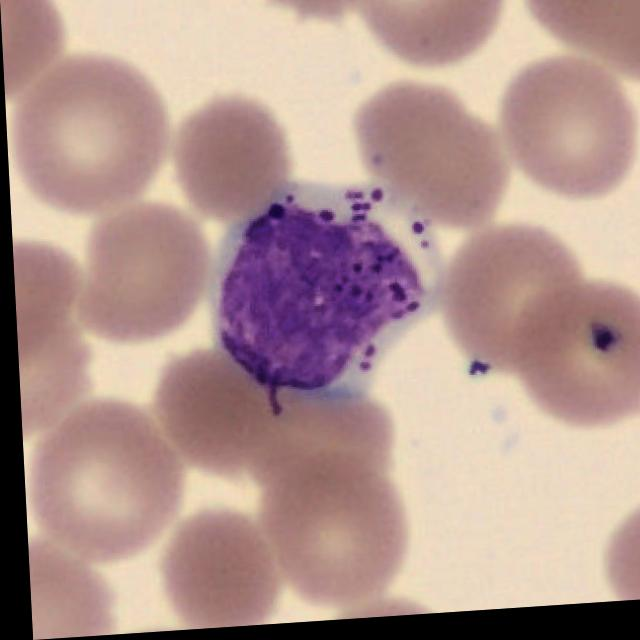Linfocito atipico: (214, 187, 427, 419)
